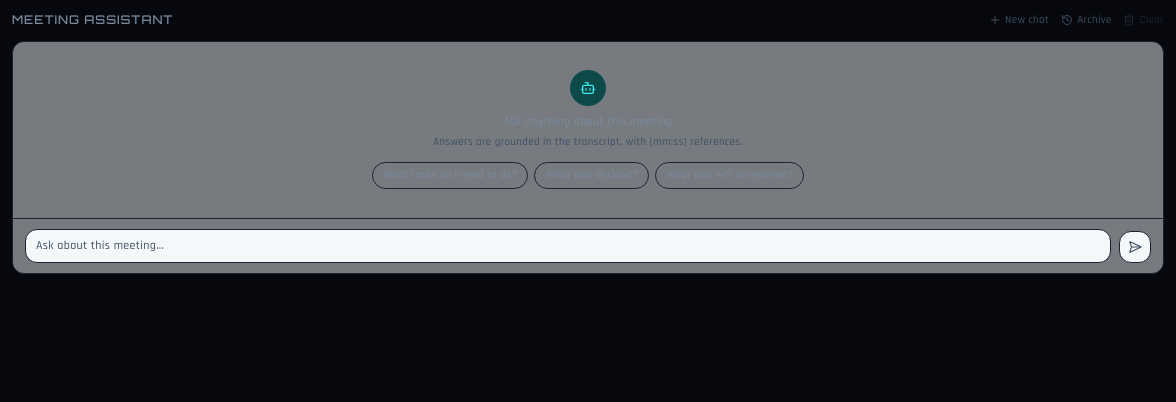
Scenario: LiveAssistantSection (post-meeting Q&A chat) › sends the question on the existing meeting-agent bridge and renders the streamed reply
Type "What did we decide on pricing?" into the text box labelled "Ask about this meeting" at (568, 246), box x1=25 y1=228 x2=1111 y2=262
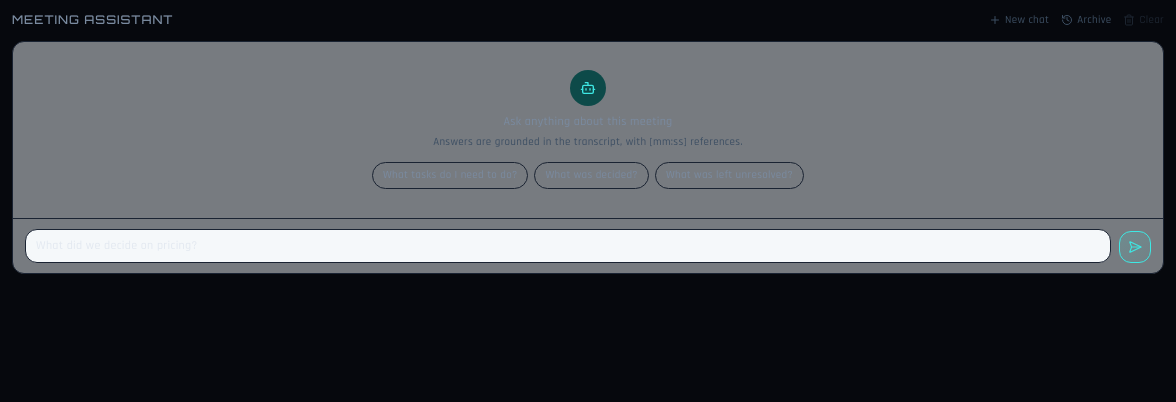
Click the button named "Send message" at (1135, 246), box x1=1119 y1=230 x2=1151 y2=262
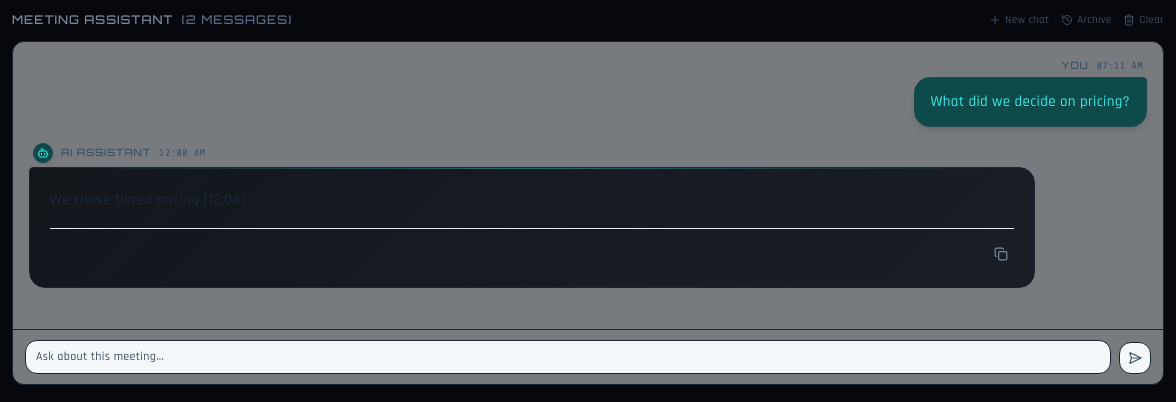
Now the text "What did we decide on pricing?" is shown, box x1=930 y1=90 x2=1130 y2=114
Now the text "We chose tiered pricing [12:04]." is shown once, box x1=50 y1=190 x2=249 y2=209
